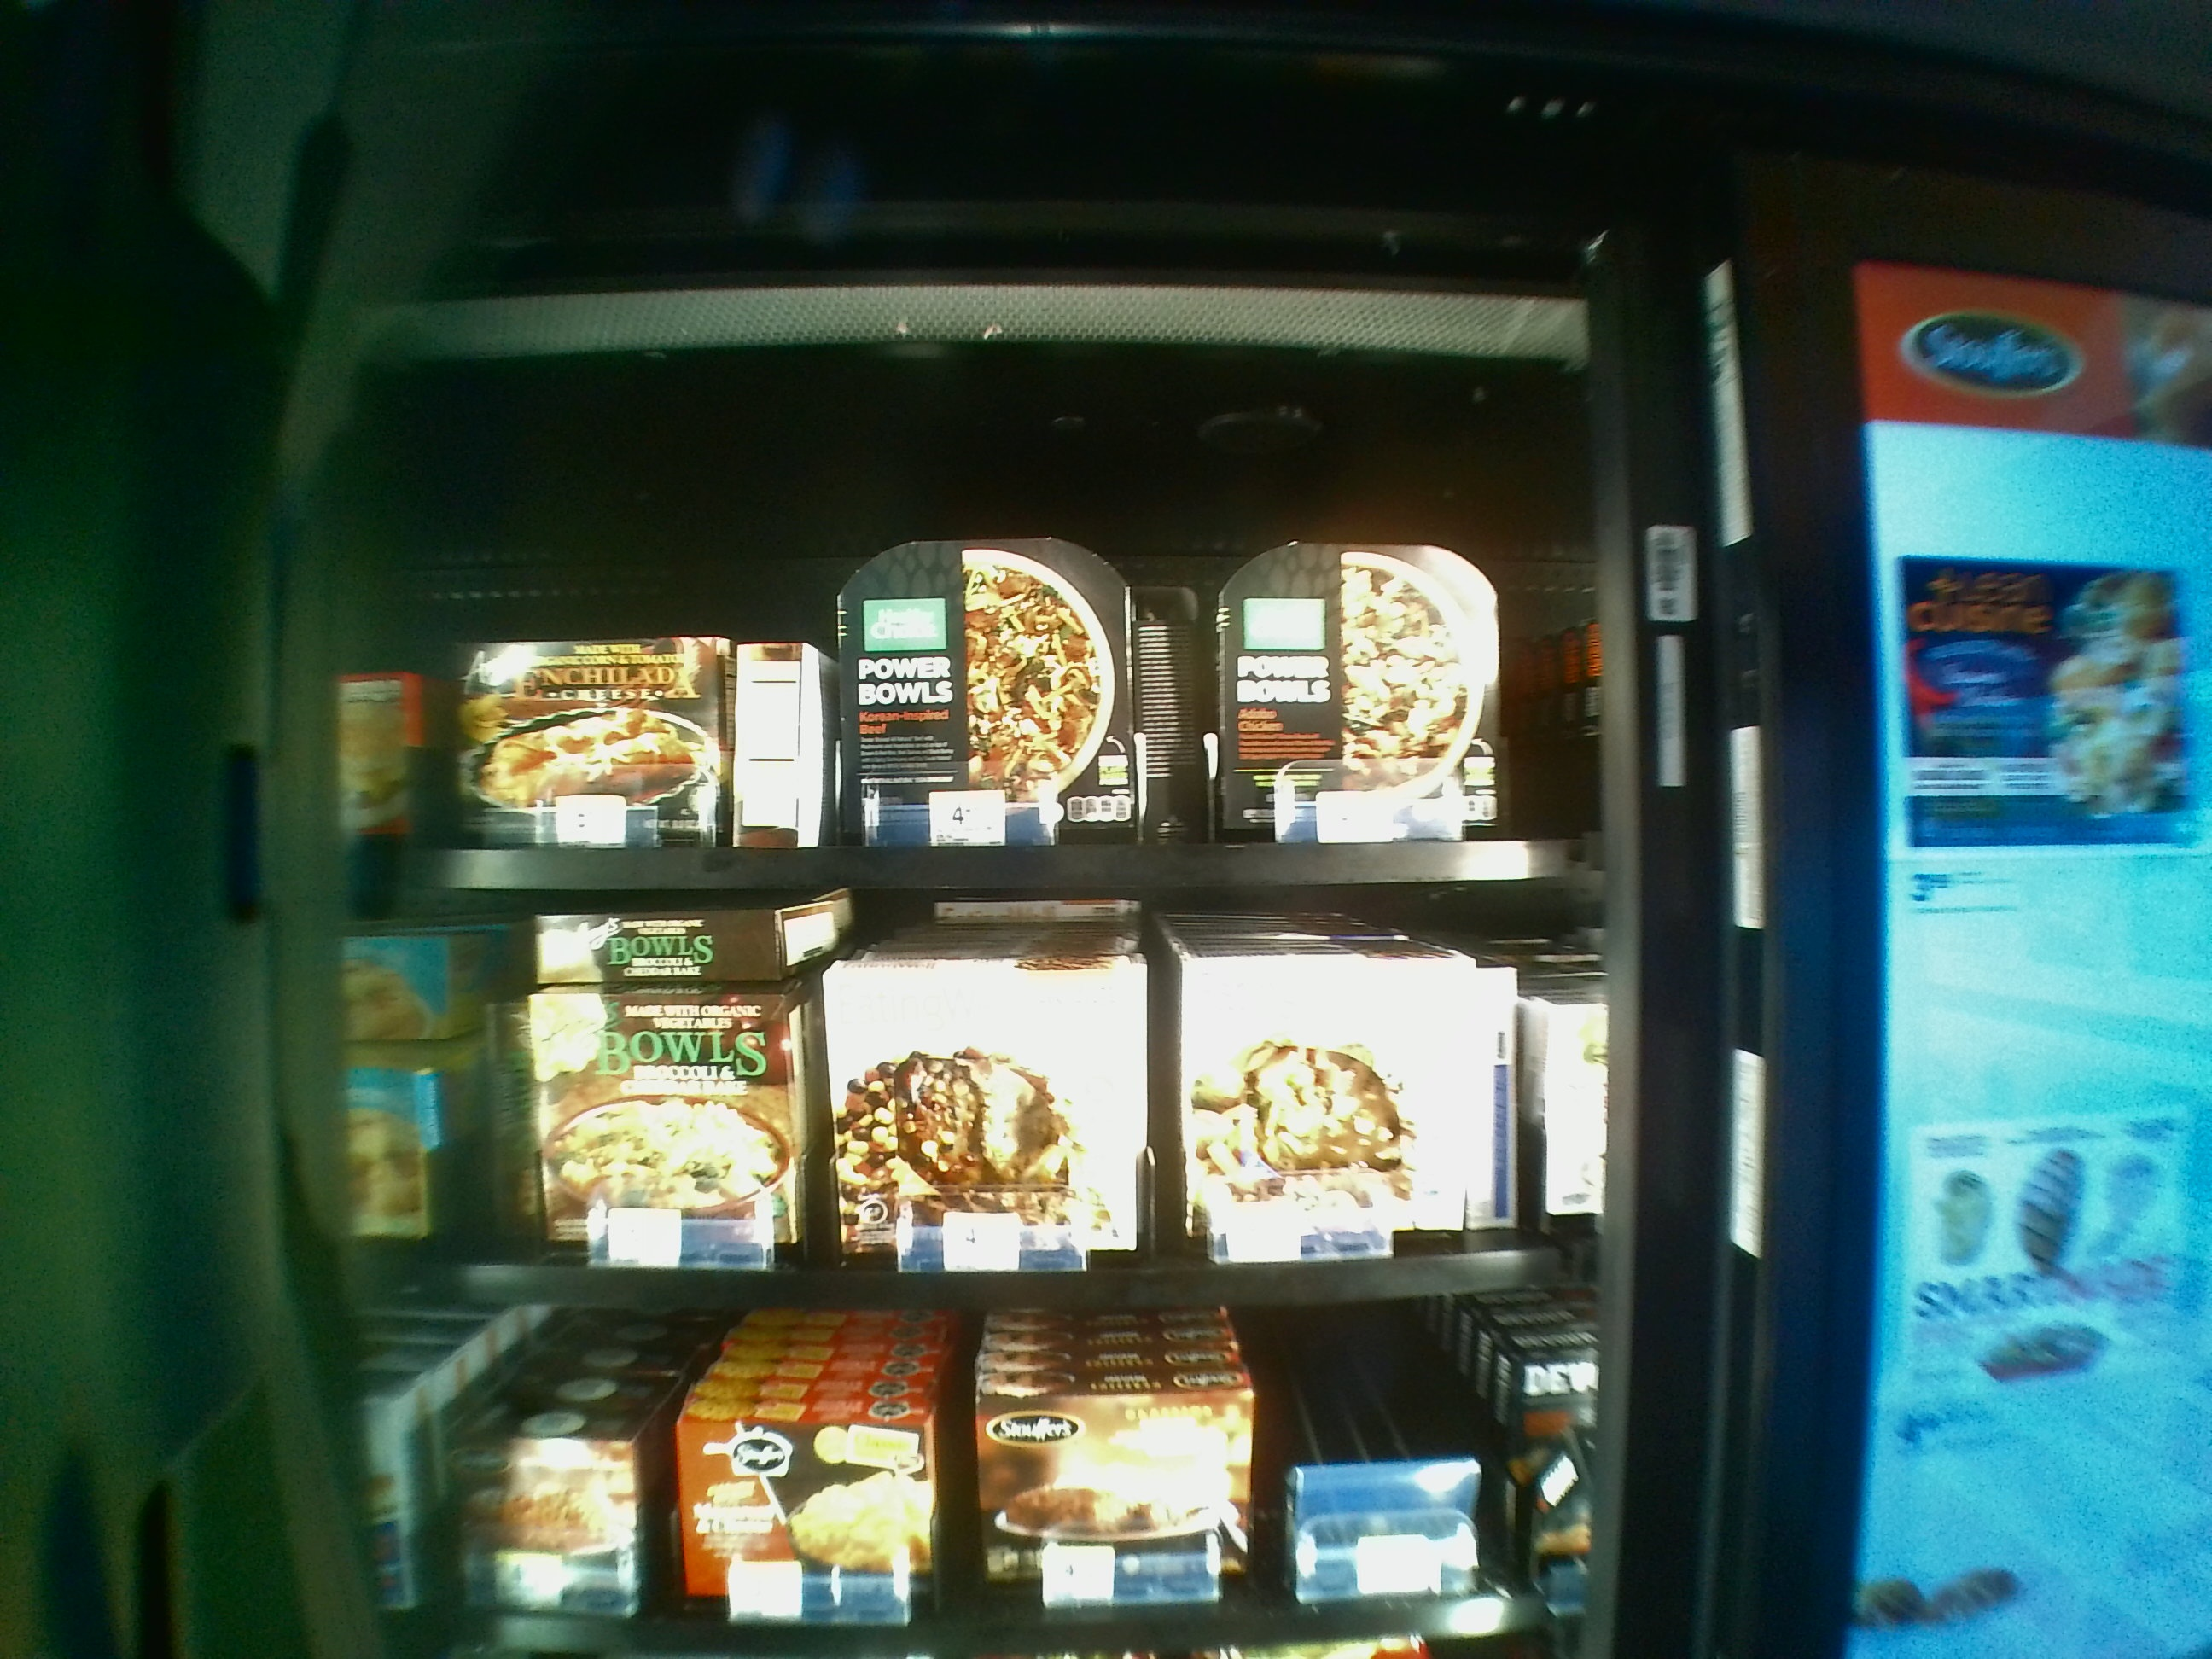shelf: (341, 352, 1590, 877), (348, 904, 1599, 1309)
